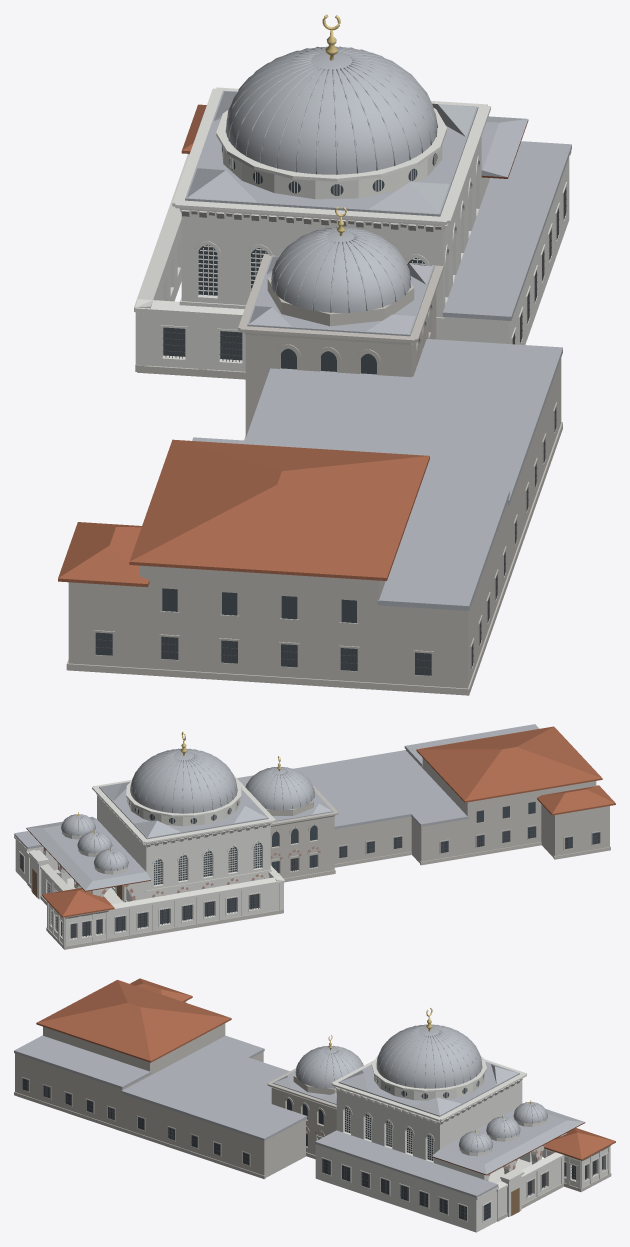
File: tomb-of-ahmed-i.glb
The picture shows the model from 3 angles, top to bottom: view 1: azimuth 30°, elevation 25°; view 2: azimuth 150°, elevation 25°; view 3: azimuth 270°, elevation 25°; orthographic projection. The views are drawn at different scales.
Visible parts, largest first — view 1: tomb-of-ahmed-i; view 2: tomb-of-ahmed-i; view 3: tomb-of-ahmed-i.
Boxes of the visible parts, box(x1,y1,x2,y2) form: tomb-of-ahmed-i: box(58, 14, 571, 695); tomb-of-ahmed-i: box(14, 724, 615, 949); tomb-of-ahmed-i: box(14, 978, 615, 1232).
Bounding box in the file's own units: 63.21 × 21.92 × 77.46.
